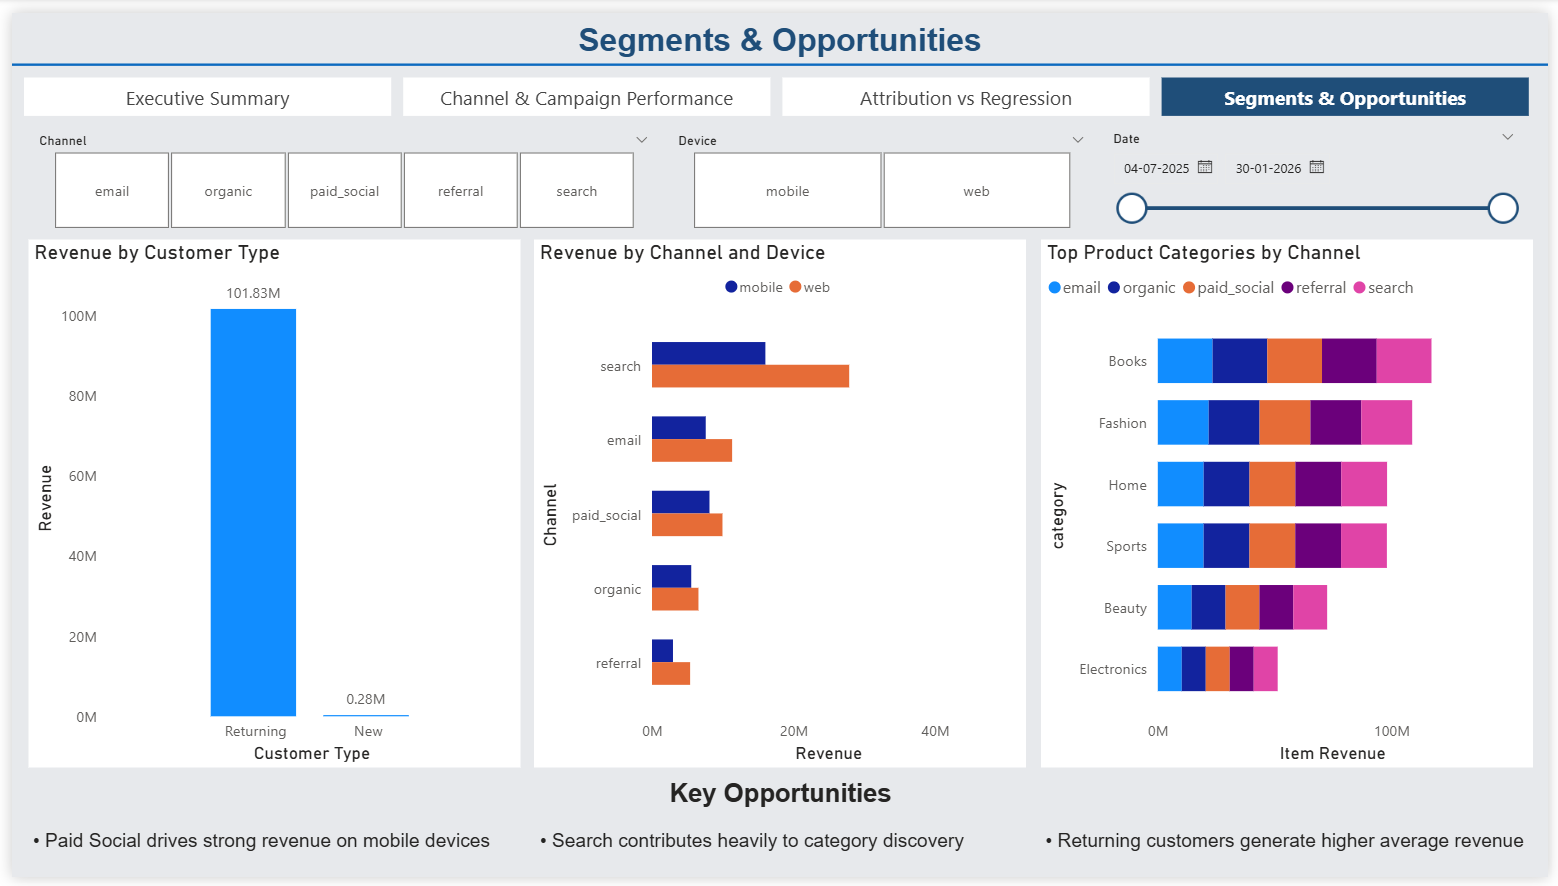

Layout of this report page (visuals, bound fields, positions):
{"tool":"powerbi","page":{"name":"Segments & Opportunities","canvas":[1280,720],"ordinal":3},"visuals":[{"type":"slicer","title":"Channel","fields":{"Values":["dim_channel.channel"]},"box":[10,94.4,532.2,91.1],"z":0},{"type":"slicer","fields":{"Values":["fact_sessions.device"]},"box":[542.2,94.4,363.3,91.1],"z":1000},{"type":"slicer","title":"Date","fields":{"Values":["fact_channel_daily.date"]},"box":[905.6,94.4,358.9,91.1],"z":2000},{"type":"clusteredBarChart","title":"Revenue by Channel and Device","fields":{"Series":["fact_sessions.device"],"Y":["Sum(fact_sessions.net_revenue)"],"Category":["dim_channel.channel"]},"box":[435.6,188.9,410,440],"z":3000},{"type":"clusteredColumnChart","title":"Revenue by Customer Type","fields":{"Y":["Sum(fact_sessions.net_revenue)"],"Category":["fact_sessions.Customer Type"]},"box":[13.3,188.9,410,440],"z":4000},{"type":"barChart","title":"Top Product Categories by Channel","fields":{"Category":["clean_products.category"],"Y":["clean_order_items.Item Revenue"],"Series":["dim_channel.channel"]},"box":[857.8,188.9,410,440],"z":5000},{"type":"textbox","box":[0,0,1280,44.4],"z":6000},{"type":"shape","box":[0,22.2,1280,41.1],"z":7000},{"type":"textbox","box":[12.2,661.1,410,46.7],"z":8000},{"type":"textbox","box":[434.4,661.1,410,46.7],"z":9000},{"type":"textbox","box":[856.7,661.1,410,46.7],"z":10000},{"type":"textbox","box":[13.3,626.7,1253.3,46.7],"z":11000},{"type":"pageNavigator","box":[10,53.3,1256.7,32.2],"z":12000}]}

Visuals, with their boxes in screenshot pixels (x1, y1, x2, y2), scaled from the page's 1280x720 canvas onto the 1558x886 screenshot:
"Channel" slicer: [12, 116, 660, 228]
slicer - fact_sessions.device: [660, 116, 1102, 228]
"Date" slicer: [1102, 116, 1539, 228]
"Revenue by Channel and Device" clusteredBarChart: [530, 232, 1029, 774]
"Revenue by Customer Type" clusteredColumnChart: [16, 232, 515, 774]
"Top Product Categories by Channel" barChart: [1044, 232, 1543, 774]
textbox: [0, 0, 1557, 55]
shape: [0, 27, 1557, 78]
textbox: [15, 814, 514, 871]
textbox: [529, 814, 1028, 871]
textbox: [1043, 814, 1542, 871]
textbox: [16, 771, 1542, 829]
pageNavigator: [12, 66, 1542, 105]
